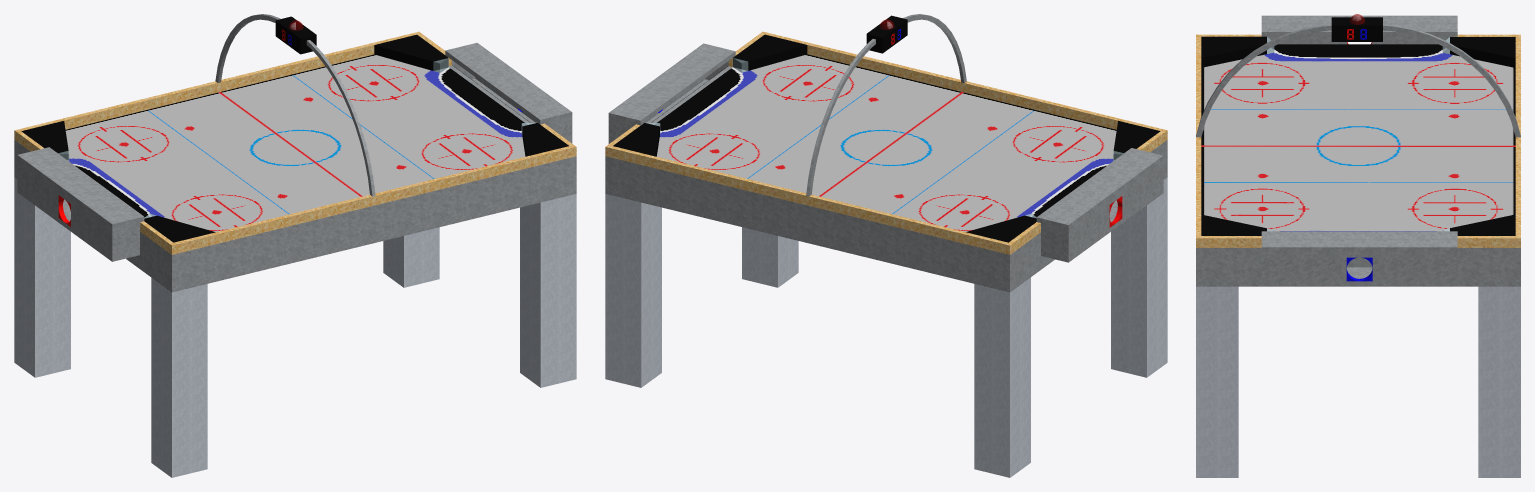
Rendered from TableP_3.FBX.
3 renders of one model, left to right at view 1: azimuth 30°, elevation 25°; view 2: azimuth 150°, elevation 25°; view 3: azimuth 270°, elevation 25°, orthographic. The views are drawn at different scales.
Parts seen in each view (by area): view 1: Layer0_001; view 2: Layer0_001; view 3: Layer0_001.
Part boxes in pixels (x1,y1,x2,y2): Layer0_001: (14,14,576,477); Layer0_001: (605,14,1167,477); Layer0_001: (1196,14,1520,477).
Size of the model in its own units: 2604 by 1898 by 1544.
9 materials, 5 textured.
